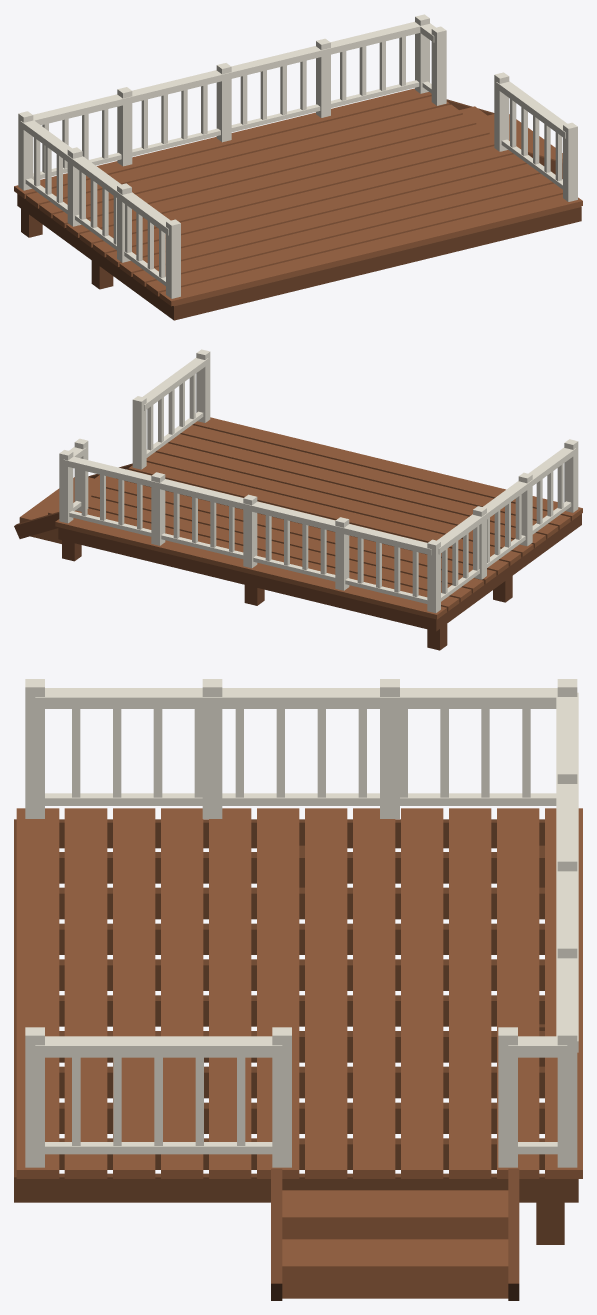
File: piece-deck.glb
3 renders of one model, top to bottom at view 1: azimuth 30°, elevation 25°; view 2: azimuth 150°, elevation 25°; view 3: azimuth 270°, elevation 25°, orthographic. The views are drawn at different scales.
Parts seen in each view (by area): view 1: piece_deck; view 2: piece_deck; view 3: piece_deck.
Boxes of the visible parts, <box> form: piece_deck: <box>14,14,582,320</box>; piece_deck: <box>14,349,582,650</box>; piece_deck: <box>14,679,582,1300</box>.
Bounding box in the file's own units: 6.98 × 1.67 × 4.03.
